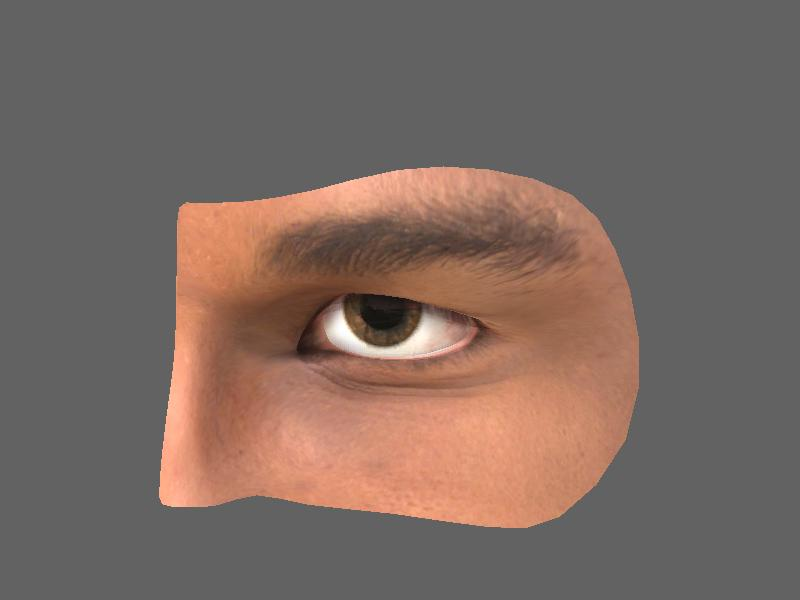iris: (343, 292, 424, 351)
